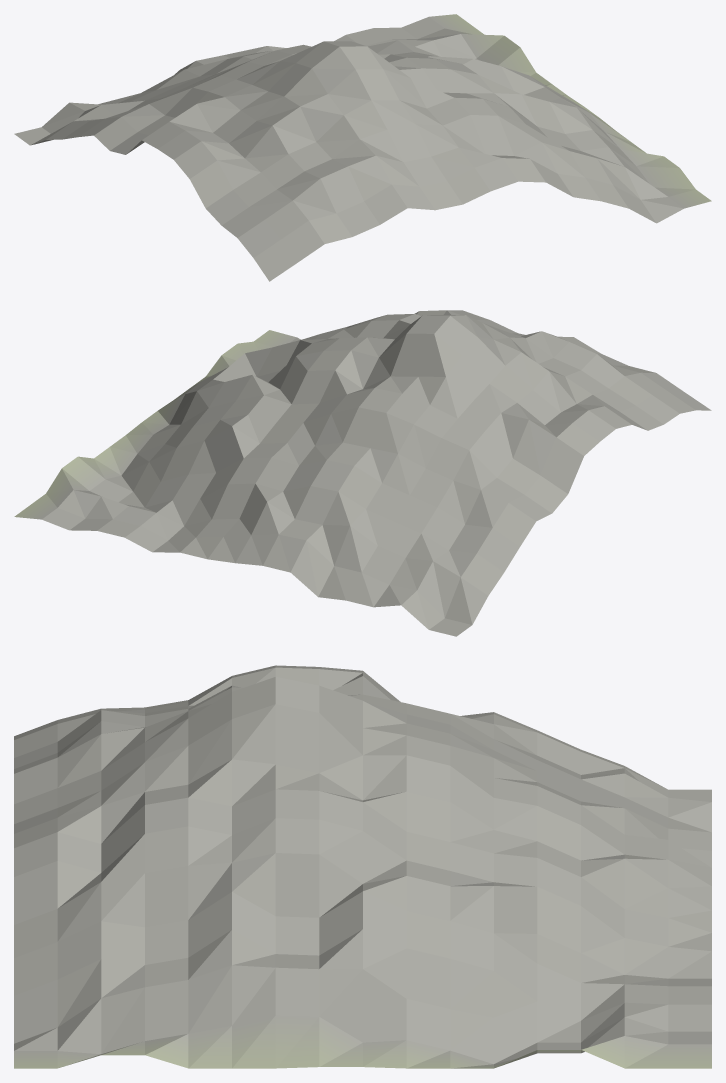
The picture shows the model from 3 angles, top to bottom: view 1: azimuth 30°, elevation 25°; view 2: azimuth 150°, elevation 25°; view 3: azimuth 270°, elevation 25°; orthographic projection. The views are drawn at different scales.
Size of the model in its own units: 32 by 11.31 by 32.
